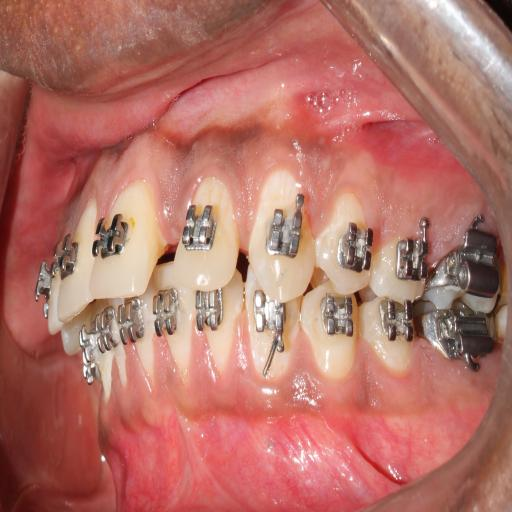correct_brace: (315, 190, 372, 300), (264, 204, 302, 258), (179, 200, 215, 254), (92, 214, 128, 260)
incorrect_brace: (174, 181, 239, 293), (334, 220, 372, 276)
